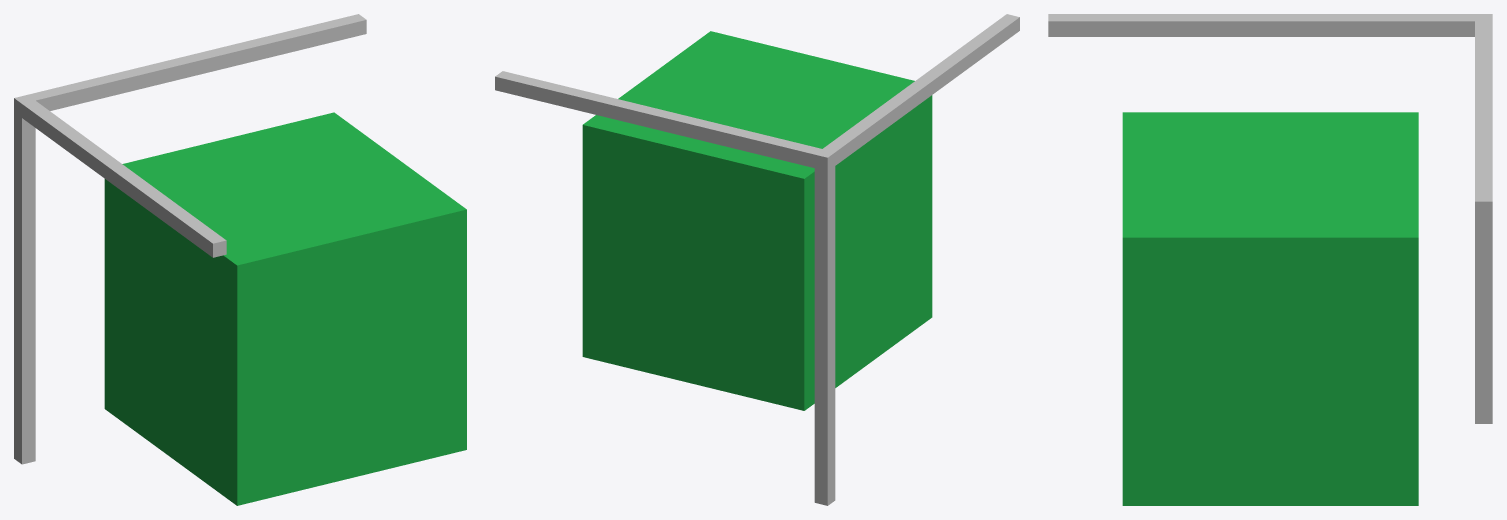
The model's file is cubo.obj.
3 views of the same model, side by side, from view 1: azimuth 30°, elevation 25°; view 2: azimuth 150°, elevation 25°; view 3: azimuth 270°, elevation 25° (orthographic). The views are drawn at different scales.
Parts seen in each view (by area): view 1: Object.2, Object.1; view 2: Object.2, Object.1; view 3: Object.2, Object.1.
Boxes of the visible parts, box(x1,y1,x2,y2) form: Object.2: box(104, 112, 466, 505); Object.1: box(14, 14, 366, 464); Object.2: box(582, 31, 932, 410); Object.1: box(495, 14, 1019, 505); Object.2: box(1122, 112, 1418, 505); Object.1: box(1048, 14, 1492, 423).
Bounding box in the file's own units: 60 × 60 × 60.
